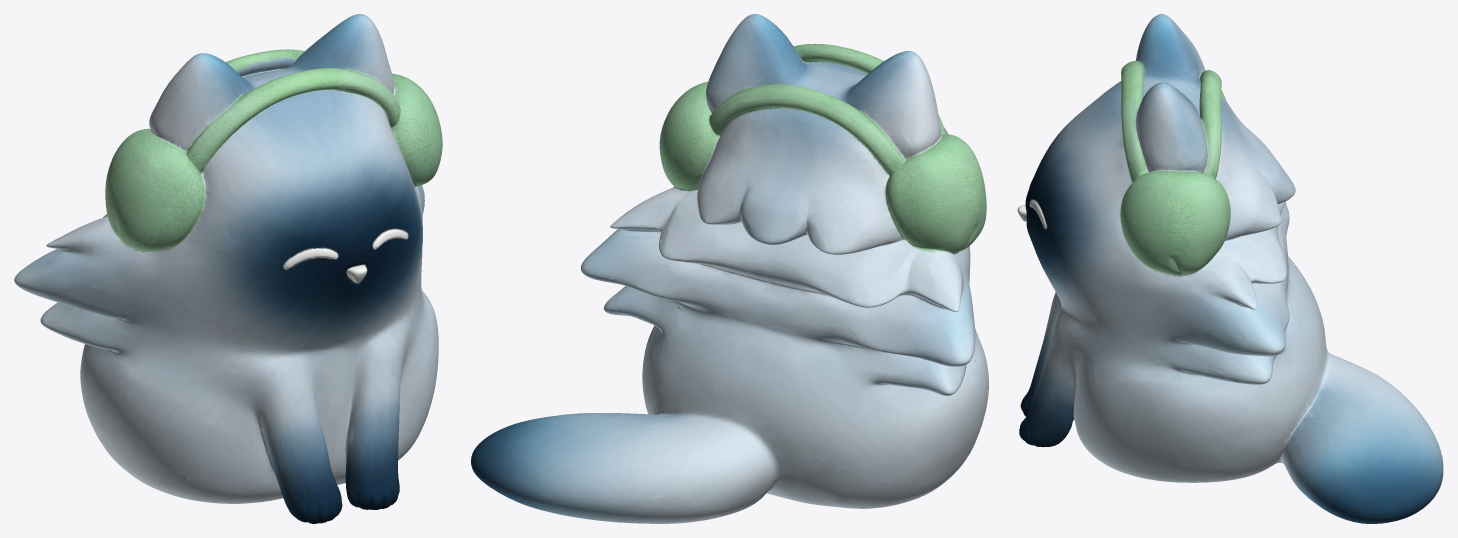
Rendered from mint-earmuffs-Ctudh9aZ.glb.
The picture shows the model from 3 angles, left to right: view 1: azimuth 30°, elevation 25°; view 2: azimuth 150°, elevation 25°; view 3: azimuth 270°, elevation 25°; orthographic projection. The views are drawn at different scales.
Visible parts, largest first — view 1: worn-mint-earmuffs; view 2: worn-mint-earmuffs; view 3: worn-mint-earmuffs.
Boxes of the visible parts, x1,y1,x2,y2 form: worn-mint-earmuffs: [14, 14, 442, 523]; worn-mint-earmuffs: [471, 14, 988, 523]; worn-mint-earmuffs: [1017, 14, 1443, 523].
Bounding box in the file's own units: 1.89 × 1.73 × 1.74.
1 material, 1 textured.
